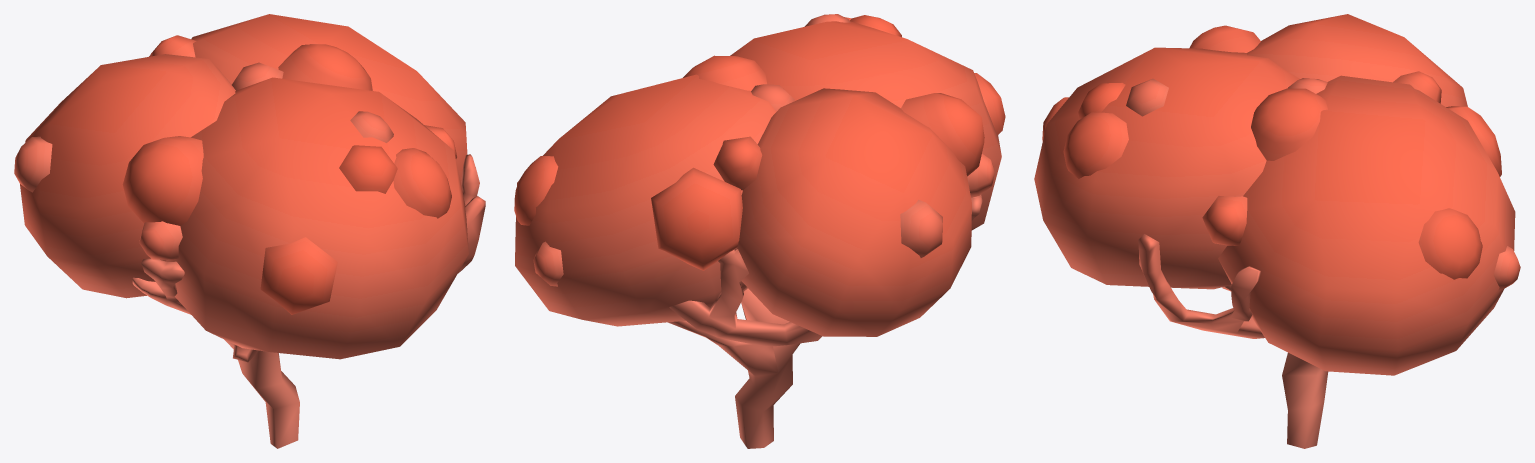
Rendered from CoralKC.fbx.
The picture shows the model from 3 angles, left to right: view 1: azimuth 30°, elevation 25°; view 2: azimuth 150°, elevation 25°; view 3: azimuth 270°, elevation 25°; orthographic projection. The views are drawn at different scales.
Parts seen in each view (by area): view 1: CoralKC; view 2: CoralKC; view 3: CoralKC.
Boxes of the visible parts, x1=… form: CoralKC: x1=14, y1=14, x2=485, y2=448; CoralKC: x1=514, y1=14, x2=1005, y2=448; CoralKC: x1=1034, y1=14, x2=1520, y2=448.
Size of the model in its own units: 79.98 by 71.09 by 83.5.
Materials: 1 (1 with a texture image).
